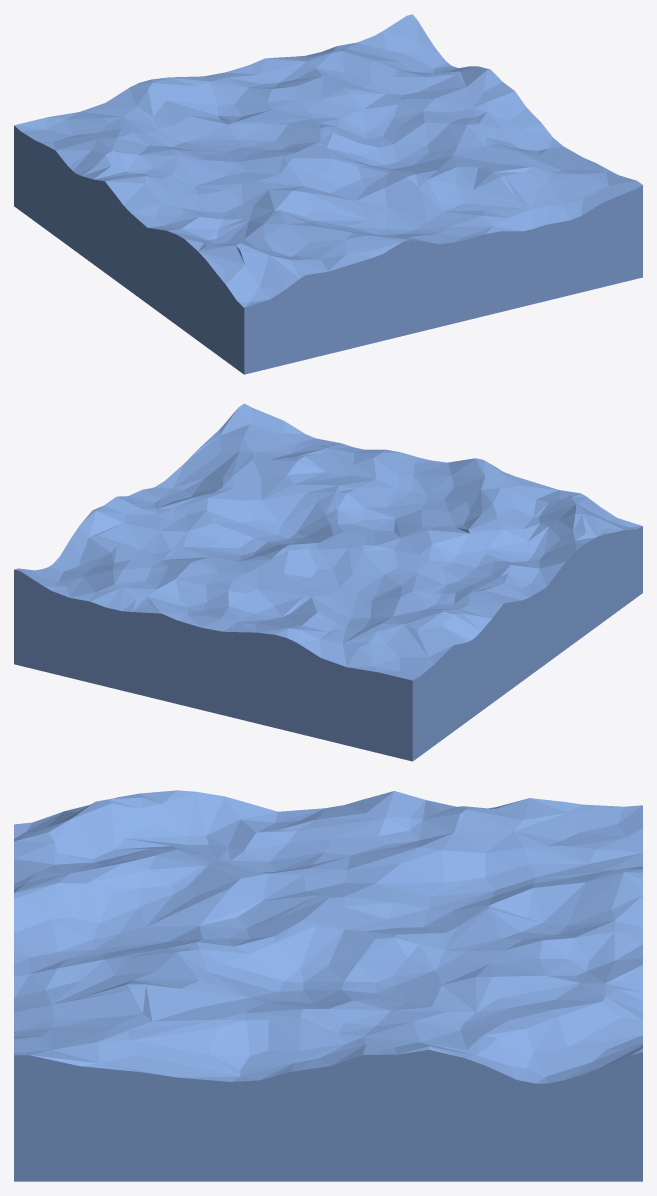
The model's file is Water_Hazard.fbx.
3 renders of one model, top to bottom at view 1: azimuth 30°, elevation 25°; view 2: azimuth 150°, elevation 25°; view 3: azimuth 270°, elevation 25°, orthographic. The views are drawn at different scales.
Visible parts, largest first — view 1: pPlane1; view 2: pPlane1; view 3: pPlane1.
Boxes of the visible parts, x1=… form: pPlane1: x1=14, y1=14, x2=642, y2=374; pPlane1: x1=14, y1=403, x2=642, y2=761; pPlane1: x1=14, y1=790, x2=642, y2=1181.
Size of the model in its own units: 1 by 0.2347 by 1.
